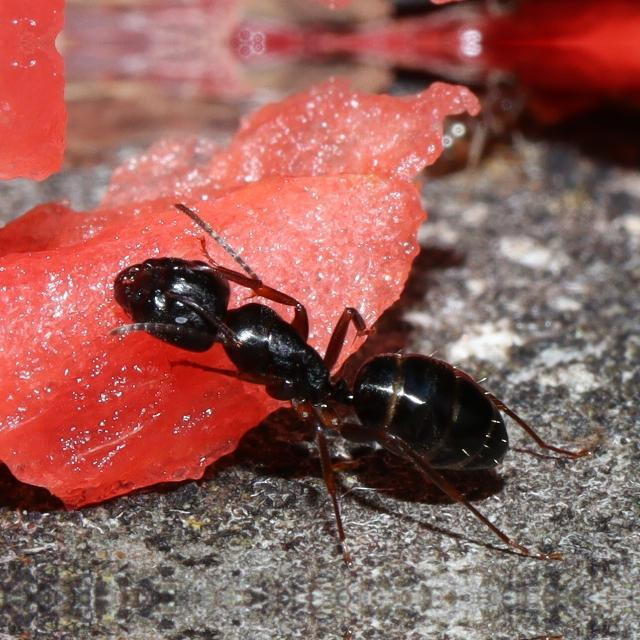Camponotus: (70, 223, 572, 519)
